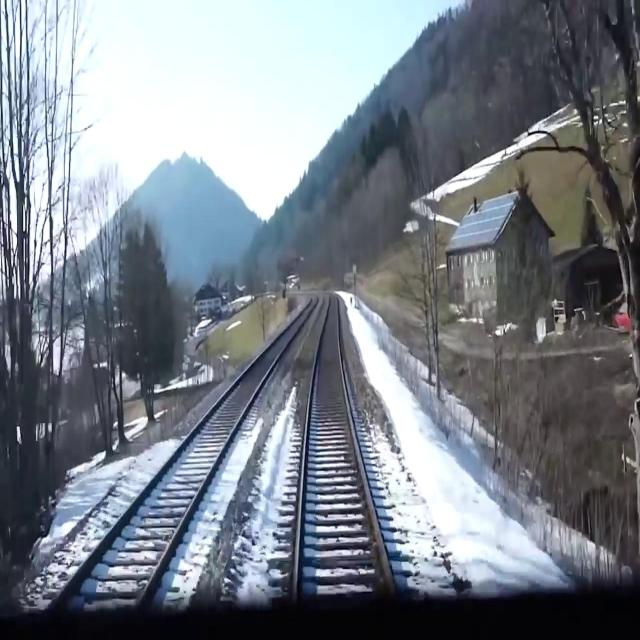rail-track: (33, 296, 316, 639), (294, 293, 401, 639)
